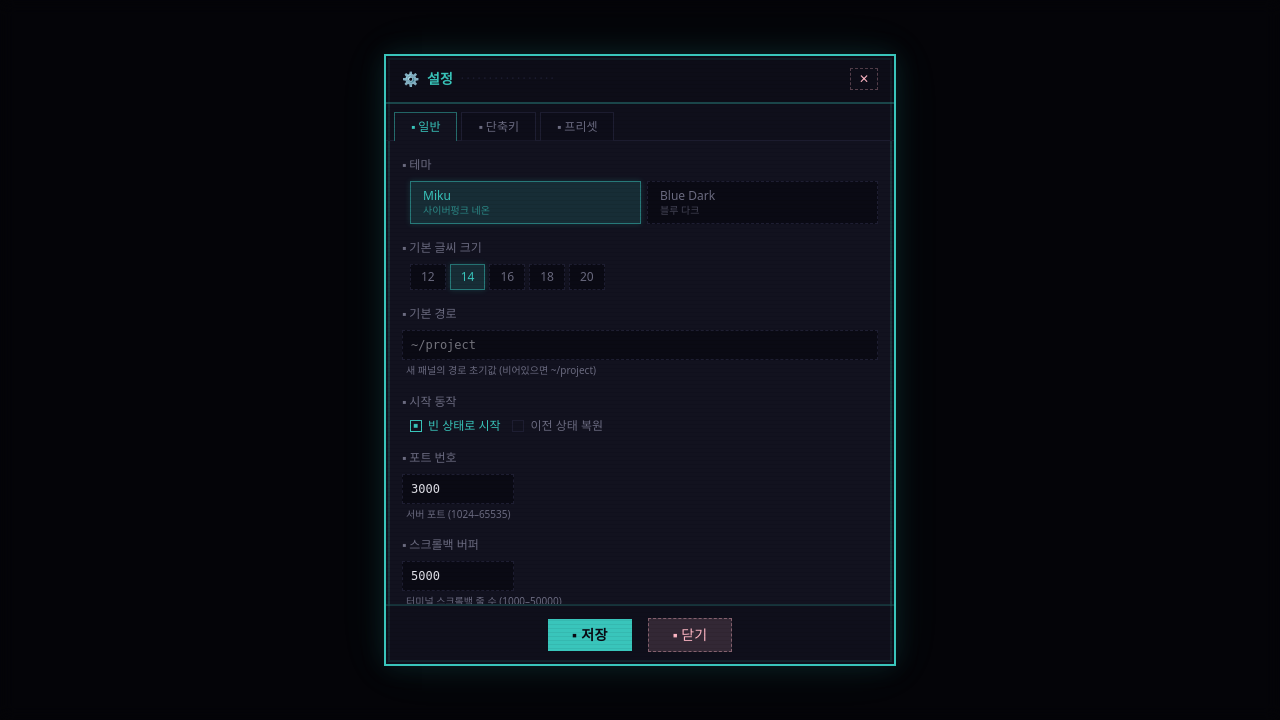
Test case: Settings 렌더링 › 단축키 탭 클릭 시 단축키 목록이 표시된다
Click the button "▪ 단축키": (499, 126) [462,112,536,141]
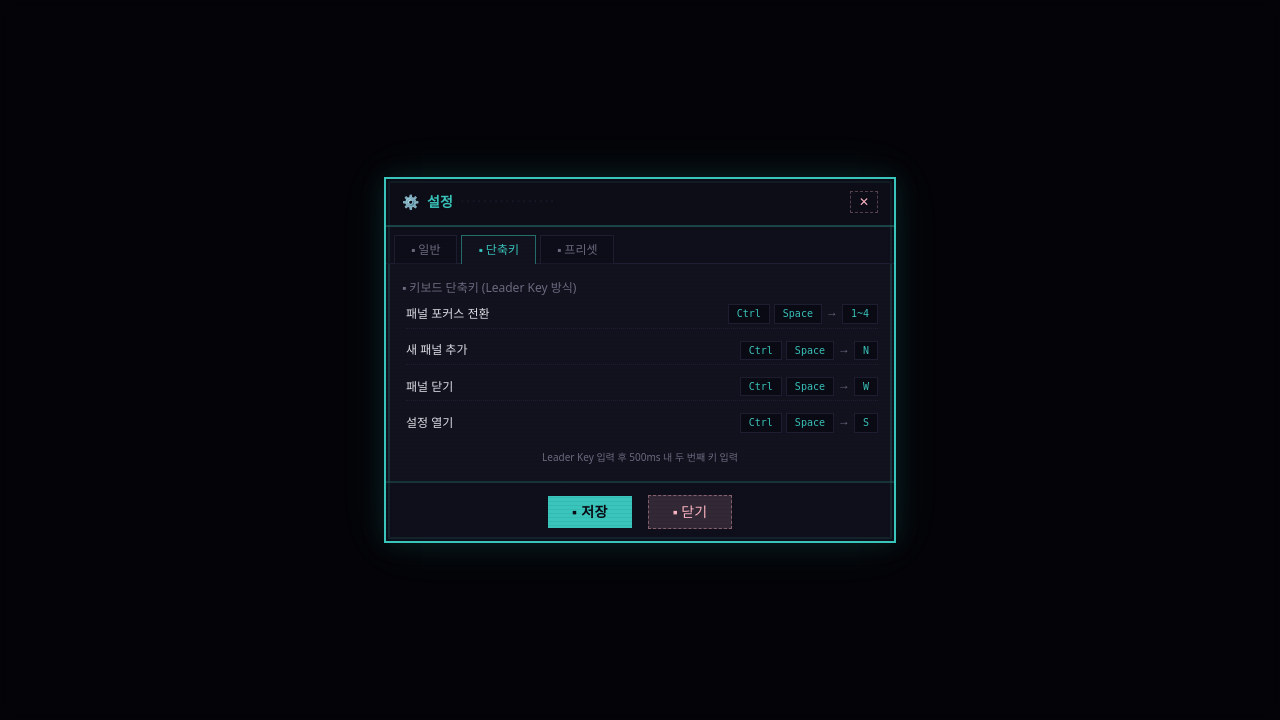
Expected: the text "패널 포커스 전환" is shown, [406,306,490,322]
Expected: the text "새 패널 추가" is shown, [406,342,468,358]
